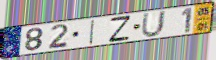1: (181, 6, 194, 35)
2: (48, 22, 71, 50)
8: (25, 27, 44, 52)
I: (88, 19, 97, 46)
U: (140, 10, 168, 39)
Z: (108, 14, 132, 43)
